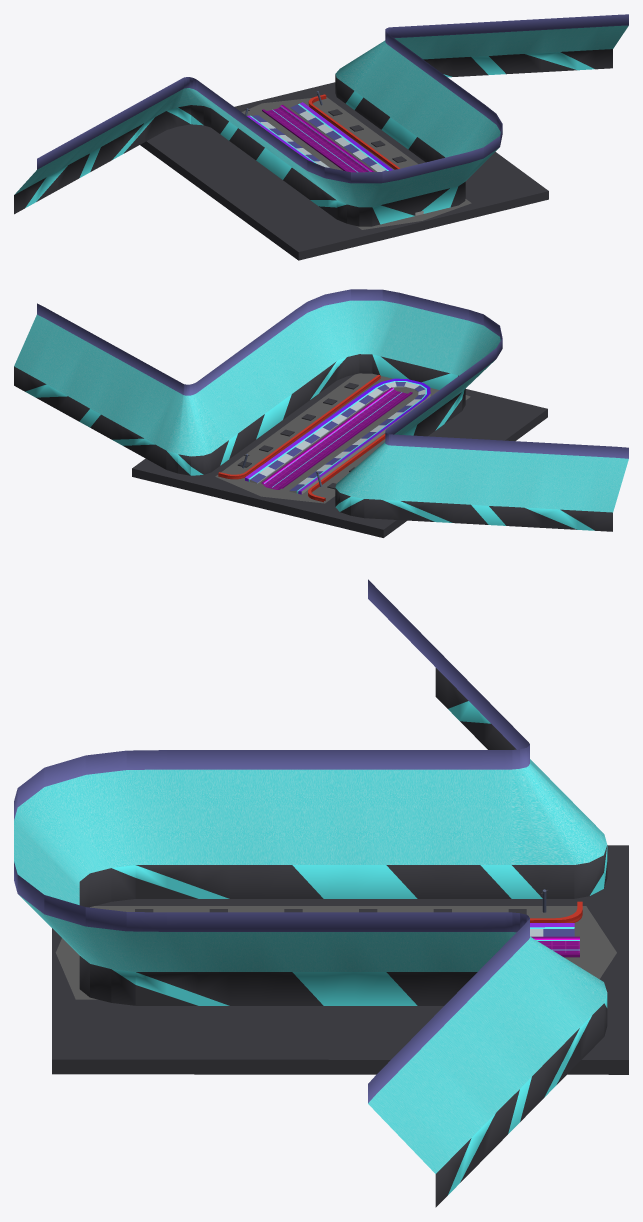
The model's file is finish_line 2_T2.fbx.
3 views of the same model, one above another, from view 1: azimuth 30°, elevation 25°; view 2: azimuth 150°, elevation 25°; view 3: azimuth 270°, elevation 25° (orthographic). The views are drawn at different scales.
Parts seen in each view (by area): view 1: finish_line_blue_T2; view 2: finish_line_blue_T2; view 3: finish_line_blue_T2.
Boxes of the visible parts, left/top/right/bottom form: finish_line_blue_T2: left=14, top=14, right=628, bottom=260; finish_line_blue_T2: left=14, top=289, right=628, bottom=537; finish_line_blue_T2: left=14, top=579, right=628, bottom=1207.
Bounding box in the file's own units: 32303 × 4004 × 16425.
1 material, 1 textured.
